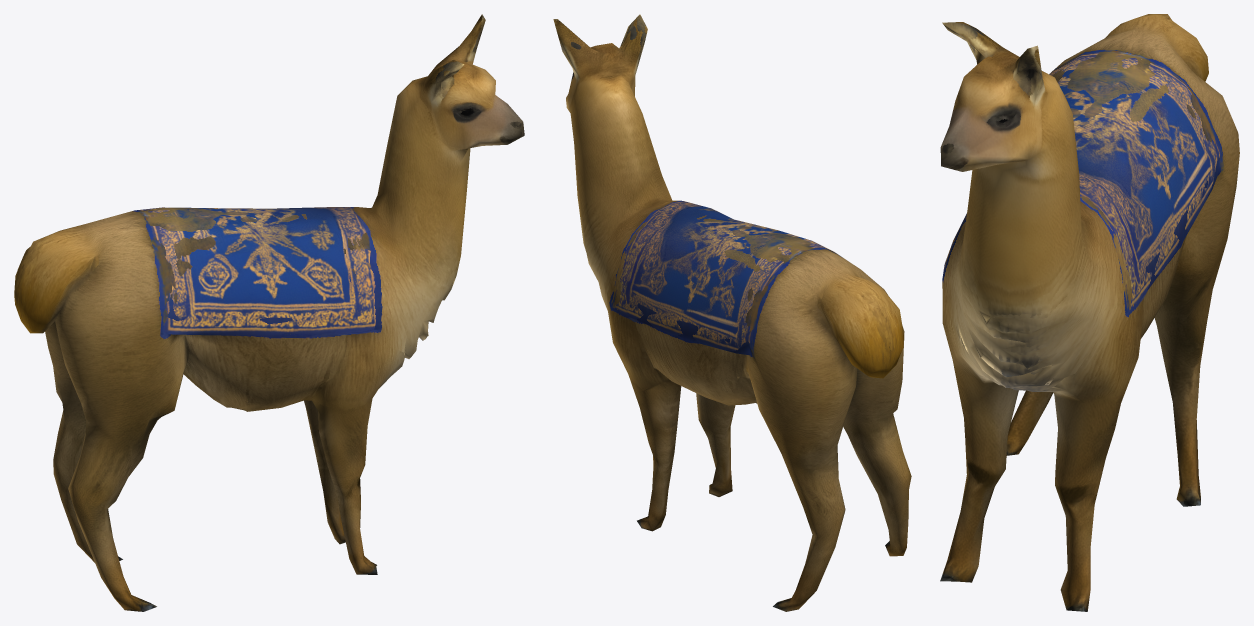
File: trader_llama_single_1500.glb
3 renders of one model, left to right at view 1: azimuth 30°, elevation 25°; view 2: azimuth 150°, elevation 25°; view 3: azimuth 270°, elevation 25°, orthographic. The views are drawn at different scales.
Size of the model in its own units: 0.7408 by 0.8682 by 0.3645.
1 material, 1 textured.
